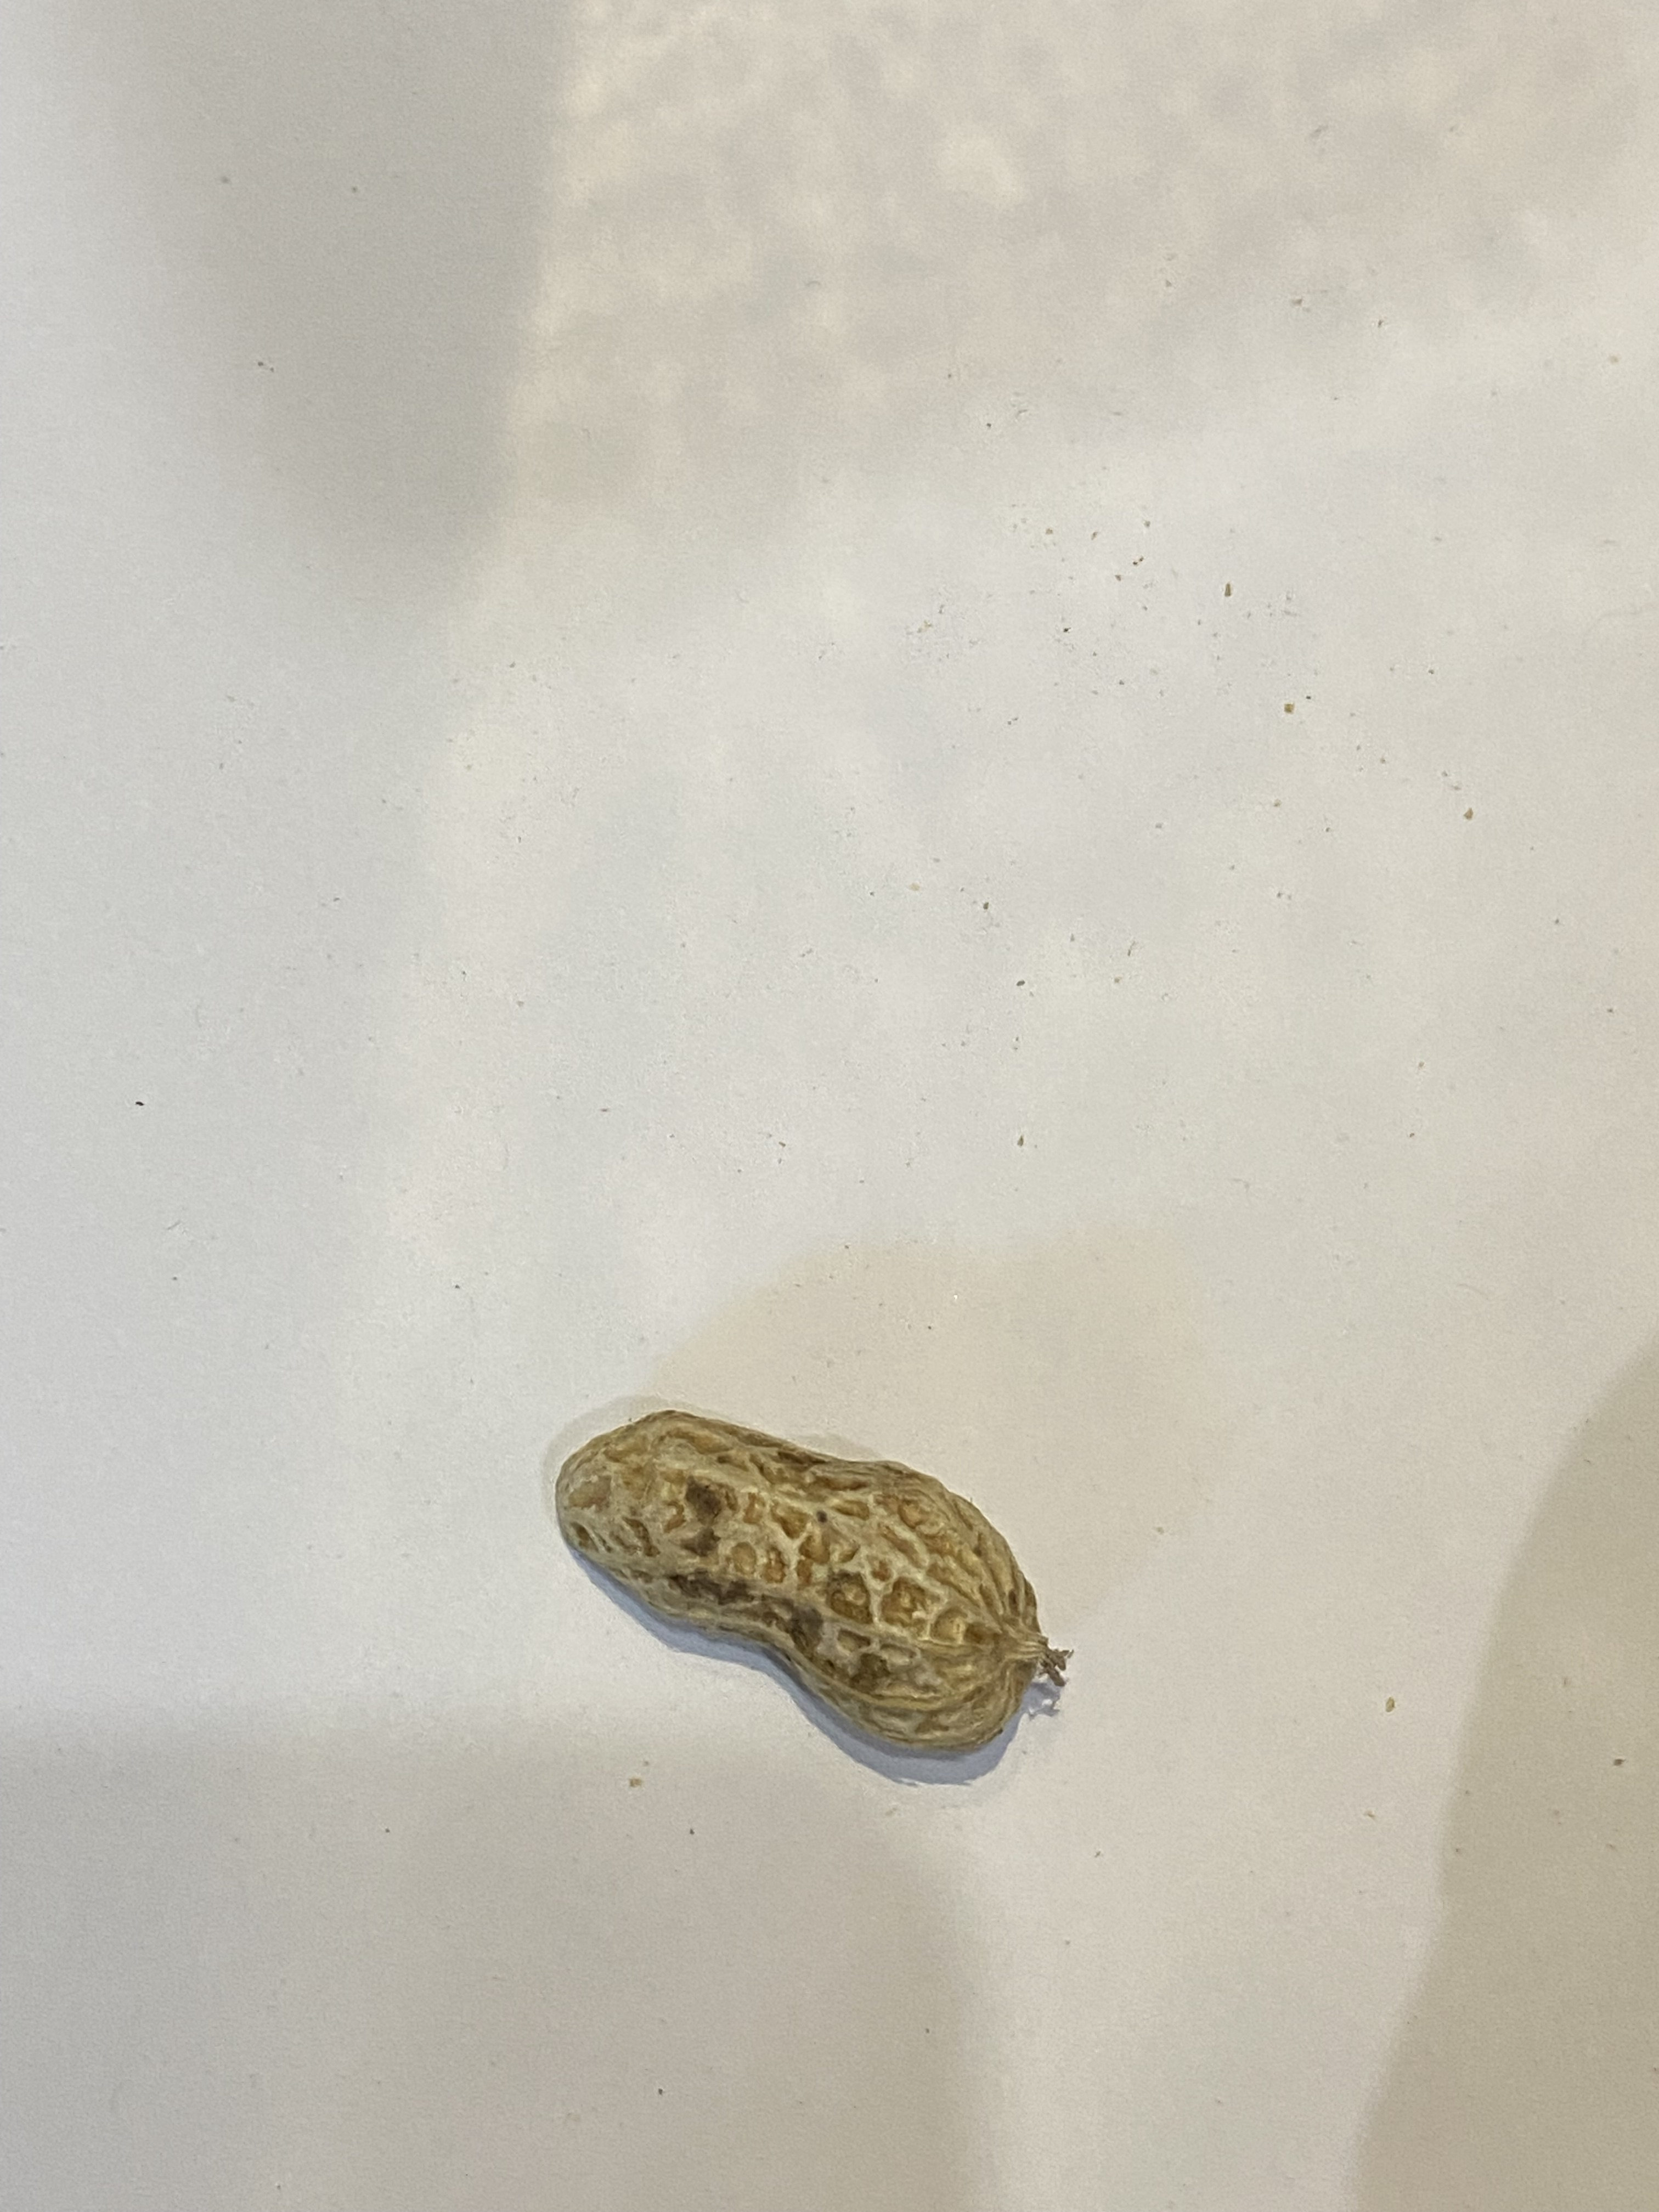kacang2: (523, 1386, 1073, 1768)
